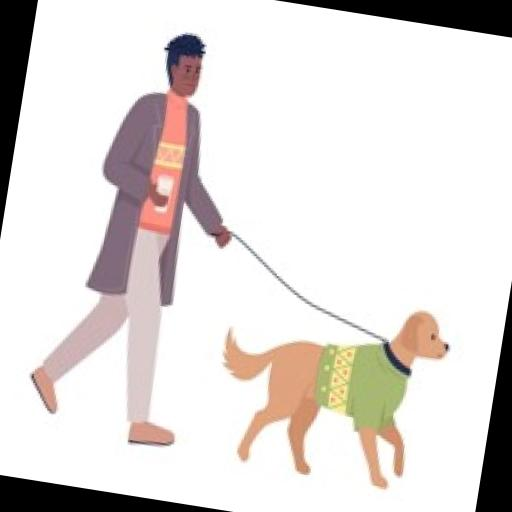human: (12, 9, 271, 458)
